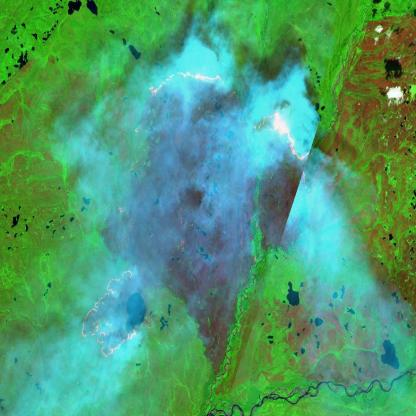fire: (127, 62, 312, 192), (74, 260, 164, 369)
